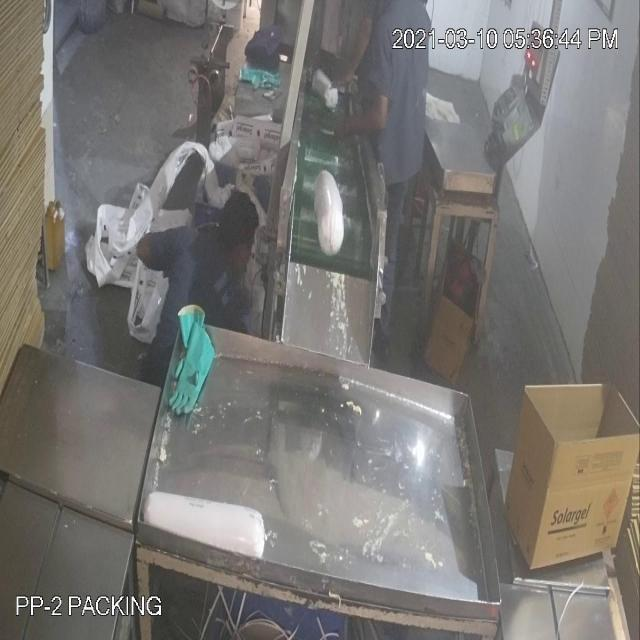No_Gloves: (57, 54, 361, 122)
